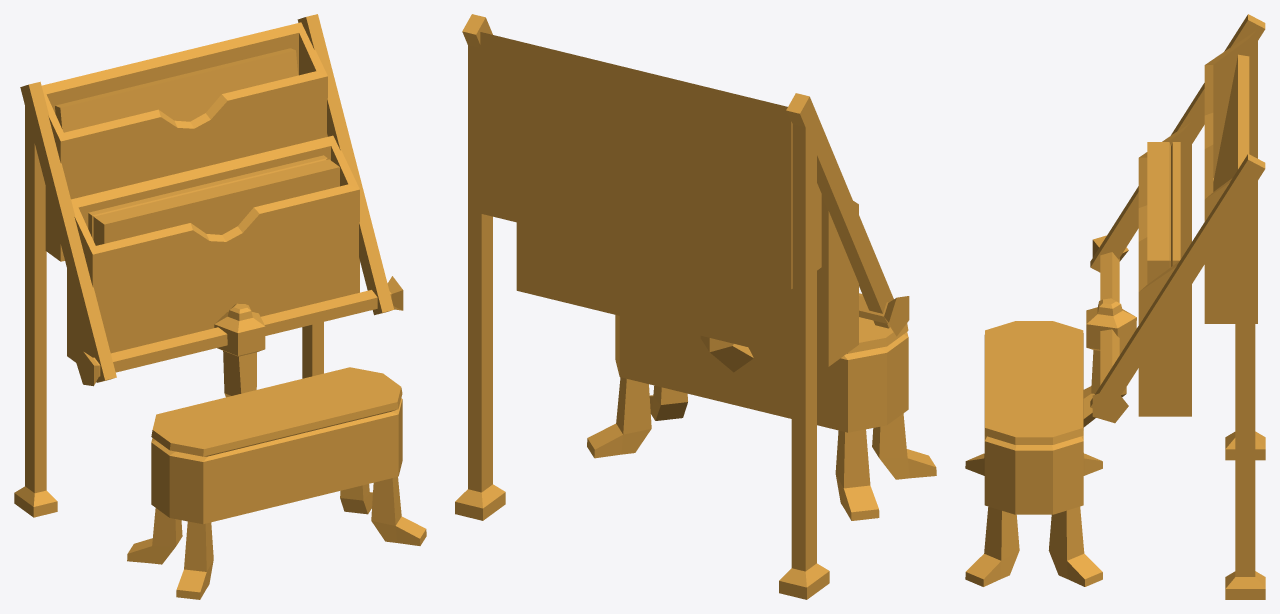
File: SM_Letter_Holder.fbx
3 renders of one model, left to right at view 1: azimuth 30°, elevation 25°; view 2: azimuth 150°, elevation 25°; view 3: azimuth 270°, elevation 25°, orthographic. The views are drawn at different scales.
Visible parts, largest first — view 1: letter-holder; view 2: letter-holder; view 3: letter-holder.
Boxes of the visible parts, x1=… form: letter-holder: x1=14, y1=14, x2=426, y2=599; letter-holder: x1=455, y1=14, x2=936, y2=599; letter-holder: x1=965, y1=14, x2=1265, y2=599.
Bounding box in the file's own units: 0.2293 × 0.3 × 0.1866.
